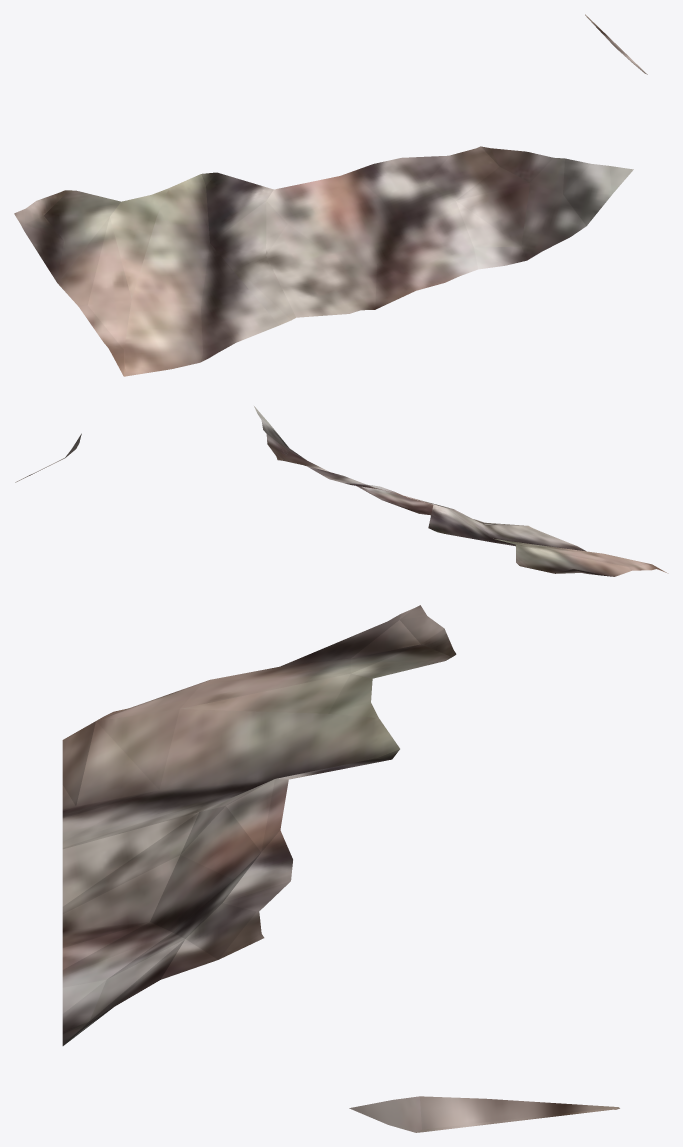
3 views of the same model, one above another, from view 1: azimuth 30°, elevation 25°; view 2: azimuth 150°, elevation 25°; view 3: azimuth 270°, elevation 25° (orthographic). The views are drawn at different scales.
Size of the model in its own units: 0.8374 by 0.1105 by 0.3922.
Materials: 1 (1 with a texture image).
